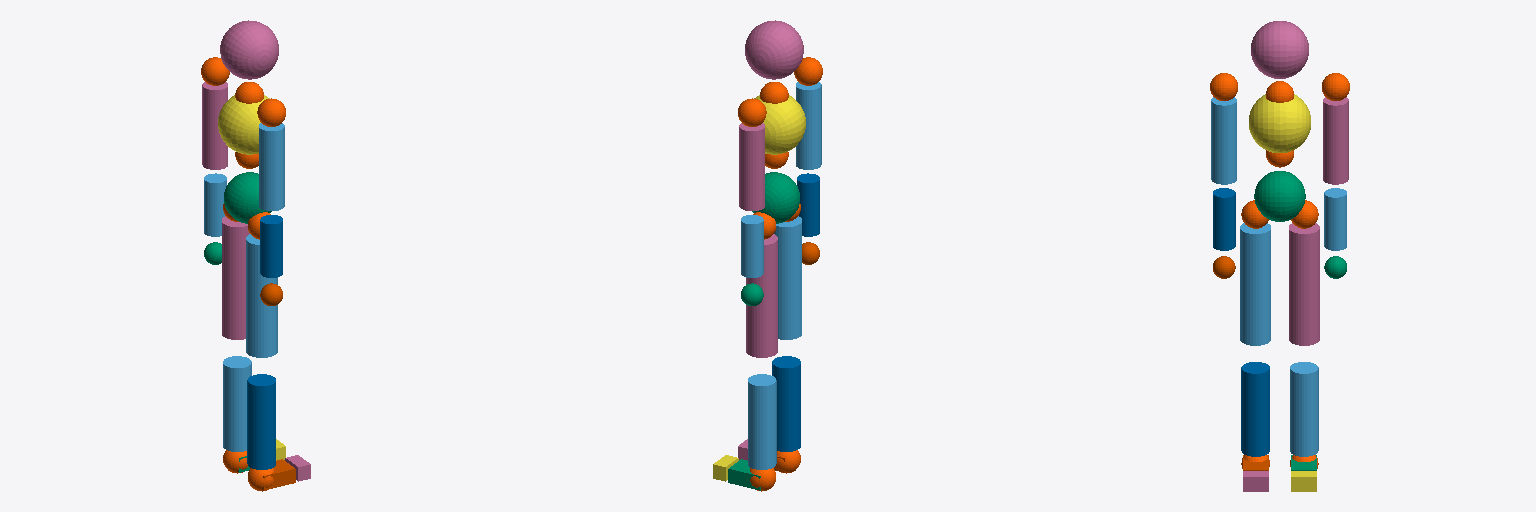
--- What the picture shows (computed from the rendered views, not written in the file) ---
The picture shows the robot from 3 angles, left to right: view 1: azimuth 30°, elevation 25°; view 2: azimuth 150°, elevation 25°; view 3: azimuth 270°, elevation 25°; orthographic projection.
Model W0002 with 35 links and 34 joints (28 revolute, 6 fixed), rooted at base_link, posed every joint at zero.
Links seen in each view (by area): view 1: left_hip, right_hip, neck, right_knee, left_knee, right_shoulder, chest, left_shoulder, root, right_elbow, left_elbow, chest_right_shoulder_link2 (+2 smaller); view 2: right_hip, left_hip, neck, left_knee, right_knee, left_shoulder, chest, right_shoulder, root, left_elbow, right_elbow, chest_left_shoulder_link2 (+2 smaller); view 3: right_hip, left_hip, chest, neck, right_knee, left_knee, right_shoulder, left_shoulder, root, right_elbow, left_elbow, chest_right_shoulder_link2 (+3 smaller).
Link boxes in pixels (box(x1,y1,x2,y2)): left_hip: box(222, 216, 249, 339); right_hip: box(246, 234, 277, 357); neck: box(220, 20, 278, 79); right_knee: box(247, 374, 275, 469); left_knee: box(223, 356, 251, 451); right_shoulder: box(259, 123, 284, 210); chest: box(218, 95, 269, 154); left_shoulder: box(202, 82, 227, 169); root: box(224, 172, 271, 223); right_elbow: box(260, 215, 282, 277); left_elbow: box(204, 173, 226, 236); chest_right_shoulder_link2: box(257, 98, 285, 126); right_hip: box(774, 216, 801, 339); left_hip: box(746, 234, 777, 357); neck: box(745, 20, 803, 79); left_knee: box(748, 374, 776, 469); right_knee: box(772, 356, 800, 451); left_shoulder: box(739, 123, 764, 210); chest: box(754, 95, 805, 154); right_shoulder: box(796, 82, 821, 169); root: box(752, 172, 799, 223); left_elbow: box(741, 215, 763, 277); right_elbow: box(797, 173, 819, 236); chest_left_shoulder_link2: box(738, 98, 766, 126); right_hip: box(1240, 223, 1270, 345); left_hip: box(1289, 223, 1319, 345); chest: box(1249, 94, 1310, 152); neck: box(1251, 21, 1308, 78); right_knee: box(1241, 362, 1269, 456); left_knee: box(1290, 362, 1318, 456); right_shoulder: box(1211, 97, 1236, 184); left_shoulder: box(1323, 97, 1348, 184); root: box(1254, 171, 1305, 221); right_elbow: box(1213, 188, 1235, 250); left_elbow: box(1324, 188, 1346, 250); chest_right_shoulder_link2: box(1210, 73, 1237, 100).
Size in the robot's own frame: 0.28 by 0.49 by 1.75 metres.
Geometry: primitives only (box / cylinder / sphere), no mesh files.

The robot description file, URDF, robot "W0002":
<?xml version="1.0" ?>
            <robot name="W0002">
            <material name="orange">
                <color rgba="1.0 0.4235294117647059 0.0392156862745098 1.0"/>
            </material>
            <link name="base_link">
                </link>
            <link name="base">
                </link>
            <joint name="j_base_base_link_rotation" type="fixed">
                <parent link="base_link"/>
                <child link="base"/>
                <origin rpy="1.5707963267948966 0 0" xyz="0 0 0"/>
            </joint>
            <link name="root">
                <inertial>
                <origin rpy="0 0 0" xyz="0.0 0.07 0.0"/>
                <mass value="6.000000"/>
                <inertia ixx="0.019440000000000002" ixy="0" ixz="0" iyy="0.019440000000000002" iyz="0" izz="0.019440000000000002"/>
                </inertial>
                <collision>
                <origin rpy="0 0 0" xyz="0.000000 0.070000 0.000000"/>
                <geometry>
                    <sphere radius="0.09"/>
                </geometry>
                </collision>
                <visual>
                <origin rpy="0 0 0" xyz="0.000000 0.070000 0.000000"/>
                <geometry>
                    <sphere radius="0.09"/>
                </geometry>
                </visual>
            </link>
            <joint name="j_root" type="fixed">
                <parent link="base"/>
                <child link="root"/>
                <origin rpy="0 0 0" xyz="0 0.000000 0.000000"/>
            </joint>
            <link name="chest">
                <inertial>
                <origin rpy="0 0 0" xyz="0.000000 0.120000 0.000000"/>
                <mass value="14.000000"/>
                <inertia ixx="0.06776000000000001" ixy="0" ixz="0" iyy="0.06776000000000001" iyz="0" izz="0.06776000000000001"/>
                </inertial>
                <collision>
                <origin rpy="0 0 0" xyz="0.000000 0.120000 0.000000"/>
                <geometry>
                    <sphere radius="0.11"/>
                </geometry>
                </collision>
                <visual>
                <origin rpy="0 0 0" xyz="0.000000 0.120000 0.000000"/>
                <geometry>
                    <sphere radius="0.11"/>
                </geometry>
                </visual>
            </link>
            <link name="root_chest_link1">
                <inertial>
                <mass value="1e-02"/>
                <inertia ixx="1e-02" ixy="0" ixz="0" iyy="1e-02" iyz="0" izz="1e-02"/>
                </inertial>
            </link>
            <joint name="j_root_chest_joint1" type="revolute">
                <origin rpy="0 0 0" xyz="0.0 0.236151 0.000000"/>
                <parent link="root"/>
                <child link="root_chest_link1"/>
                <axis xyz="1 0 0"/>
                <limit effort="200" lower="-1.2" upper="1.2" velocity="3"/>
            </joint>
            <link name="root_chest_link2">
                <inertial>
                <mass value="1e-02"/>
                <inertia ixx="1e-02" ixy="0" ixz="0" iyy="1e-02" iyz="0" izz="1e-02"/>
                </inertial>
                <visual>
                <geometry>
                    <sphere radius="0.05"/>
                </geometry>
                <material name="orange"/>
                </visual>
            </link>
            <joint name="j_root_chest_joint2" type="revolute">
                <parent link="root_chest_link1"/>
                <child link="root_chest_link2"/>
                <axis xyz="0 1 0"/>
                <limit effort="200" lower="-1.2" upper="1.2" velocity="3"/>
            </joint>
            <joint name="j_root_chest_joint3" type="revolute">
                <parent link="root_chest_link2"/>
                <child link="chest"/>
                <axis xyz="0 0 1"/>
                <limit effort="200" lower="-1.2" upper="1.2" velocity="3"/>
            </joint>
            <link name="neck">
                <inertial>
                <origin rpy="0 0 0" xyz="0.0 0.175 0.0"/>
                <mass value="2.000000"/>
                <inertia ixx="0.008405" ixy="0" ixz="0" iyy="0.008405" iyz="0" izz="0.008405"/>
                </inertial>
                <collision>
                <origin rpy="0 0 0" xyz="0.0 0.175 0.0"/>
                <geometry>
                    <sphere radius="0.1025"/>
                </geometry>
                </collision>
                <visual>
                <origin rpy="0 0 0" xyz="0.0 0.175 0.0"/>
                <geometry>
                    <sphere radius="0.1025"/>
                </geometry>
                </visual>
            </link>
            <link name="chest_neck_link1">
                <inertial>
                <mass value="1e-02"/>
                <inertia ixx="1e-02" ixy="0" ixz="0" iyy="1e-02" iyz="0" izz="1e-02"/>
                </inertial>
            </link>
            <joint name="j_chest_neck_joint1" type="revolute">
                <origin rpy="0 0 0" xyz="0.000000 0.223894 0.000000"/>
                <parent link="chest"/>
                <child link="chest_neck_link1"/>
                <axis xyz="1 0 0"/>
                <limit effort="50" lower="-1" upper="1" velocity="3"/>
            </joint>
            <link name="chest_neck_link2">
                <inertial>
                <mass value="1e-02"/>
                <inertia ixx="1e-02" ixy="0" ixz="0" iyy="1e-02" iyz="0" izz="1e-02"/>
                </inertial>
                <visual>
                <geometry>
                    <sphere radius="0.05"/>
                </geometry>
                <material name="orange"/>
                </visual>
            </link>
            <joint name="j_chest_neck_joint2" type="revolute">
                <parent link="chest_neck_link1"/>
                <child link="chest_neck_link2"/>
                <axis xyz="0 1 0"/>
                <limit effort="50" lower="-1" upper="1" velocity="3"/>
            </joint>
            <joint name="j_chest_neck_joint3" type="revolute">
                <parent link="chest_neck_link2"/>
                <child link="neck"/>
                <axis xyz="0 0 1"/>
                <limit effort="50" lower="-1" upper="1" velocity="3"/>
            </joint>
            <link name="right_hip">
                <inertial>
                <origin rpy="0 0 0" xyz="0.000000 -0.210000 0.000000"/>
                <mass value="4.500000"/>
                <inertia ixx="0.037153124999999995" ixy="0.0" ixz="0.0" iyy="0.037153124999999995" iyz="0.0" izz="0.00680625"/>
                </inertial>
                <collision>
                <origin rpy="1.5707963267948966 0 0" xyz="0.000000 -0.210000 0.000000"/>
                <geometry>
                    <cylinder length="0.22499999999999998" radius="0.0275"/>
                </geometry>
                </collision>
                <visual>
                <origin rpy="1.5707963267948966 0 0" xyz="0.000000 -0.26550000000000007 0.000000"/>
                <geometry>
                    <cylinder length="0.43100000000000016" radius="0.055"/>
                </geometry>
                </visual>
            </link>
            <link name="root_right_hip_link1">
                <inertial>
                <mass value="1e-02"/>
                <inertia ixx="1e-02" ixy="0" ixz="0" iyy="1e-02" iyz="0" izz="1e-02"/>
                </inertial>
            </link>
            <joint name="j_root_right_hip_joint1" type="revolute">
                <origin rpy="0 0 0" xyz="0.000000 0.000000 0.084887"/>
                <parent link="root"/>
                <child link="root_right_hip_link1"/>
                <axis xyz="1 0 0"/>
                <limit effort="200" lower="-1.5" upper="1.5" velocity="3"/>
            </joint>
            <link name="root_right_hip_link2">
                <inertial>
                <mass value="1e-02"/>
                <inertia ixx="1e-02" ixy="0" ixz="0" iyy="1e-02" iyz="0" izz="1e-02"/>
                </inertial>
                <visual>
                <geometry>
                    <sphere radius="0.05"/>
                </geometry>
                <material name="orange"/>
                </visual>
            </link>
            <joint name="j_root_right_hip_joint2" type="revolute">
                <parent link="root_right_hip_link1"/>
                <child link="root_right_hip_link2"/>
                <axis xyz="0 1 0"/>
                <limit effort="200" lower="-1.5" upper="1.5" velocity="3"/>
            </joint>
            <joint name="j_root_right_hip_joint3" type="revolute">
                <parent link="root_right_hip_link2"/>
                <child link="right_hip"/>
                <axis xyz="0 0 1"/>
                <limit effort="200" lower="-1.5" upper="1.5" velocity="3"/>
            </joint>
            <link name="right_knee">
                <inertial>
                <origin rpy="0 0 0" xyz="0.000000 -0.200000 0.000000"/>
                <mass value="3.000000"/>
                <inertia ixx="0.1" ixy="0" ixz="0" iyy="0.1" iyz="0" izz="0.1"/>
                </inertial>
                <collision>
                <origin rpy="1.5707963267948966 0 0" xyz="0.000000 -0.200000 0.000000"/>
                <geometry>
                    <cylinder length="0.23249999999999998" radius="0.025"/>
                </geometry>
                </collision>
                <visual>
                <origin rpy="1.5707963267948966 0 0" xyz="0.000000 -0.2 0.000000"/>
                <geometry>
                    <cylinder length="0.32" radius="0.05"/>
                </geometry>
                </visual>
            </link>
            <joint name="j_right_knee" type="revolute">
                <parent link="right_hip"/>
                <child link="right_knee"/>
                <limit effort="150.0" lower="-3.14" upper="0." velocity="0.5"/>
                <origin rpy="0 0 0" xyz="0.000000 -0.5510000000000002 0.000000"/>
                <axis xyz="0.000000 0.000000 1.000000"/>
            </joint>
            <link name="right_ankle">
                <inertial>
                <origin rpy="0 0 0" xyz="0.045 -0.00225 0.000000"/>
                <mass value="1.000000"/>
                <inertia ixx="0.0009270833333333333" ixy="0.0" ixz="0.0" iyy="0.0028628333333333327" iyz="0.0" izz="0.003285749999999999"/>
                </inertial>
                <collision>
                <origin rpy="0 0 0" xyz="0.045 -0.00225 0.000000"/>
                <geometry>
                    <box size="0.127 0.055 0.09"/>
                </geometry>
                </collision>
                <visual>
                <origin rpy="0 0 0" xyz="0.045 -0.00225 0.000000"/>
                <geometry>
                    <box size="0.127 0.055 0.09"/>
                </geometry>
                </visual>
            </link>
            <joint name="j_right_toe" type="fixed">
                <parent link="right_ankle"/>
                <child link="right_toe"/>
                <limit effort="150.0" lower="-3.14" upper="0." velocity="0.5"/>
                <origin rpy="0 0 0" xyz="0.1 0.0 0.0"/>
                <axis xyz="0.000000 0.000000 1.000000"/>
            </joint>
            <link name="right_toe">
                <inertial>
                <origin rpy="0 0 0" xyz="0.045 0.0 0.0"/>
                <mass value="0.3"/>
                <inertia ixx="0.0009270833333333333" ixy="0.0" ixz="0.0" iyy="0.0028628333333333327" iyz="0.0" izz="0.003285749999999999"/>
                </inertial>
                <collision>
                <origin rpy="0 0 0" xyz="0.045 0.0 0.0"/>
                <geometry>
                    <box size="0.05 0.055 0.09"/>
                </geometry>
                </collision>
                <visual>
                <origin rpy="0 0 0" xyz="0.045 0.0 0.0"/>
                <geometry>
                    <box size="0.05 0.055 0.09"/>
                </geometry>
                </visual>
            </link>
            <link name="right_knee_right_ankle_link1">
                <inertial>
                <mass value="1e-02"/>
                <inertia ixx="1e-02" ixy="0" ixz="0" iyy="1e-02" iyz="0" izz="1e-02"/>
                </inertial>
            </link>
            <joint name="j_right_knee_right_ankle_joint1" type="revolute">
                <origin rpy="0 0 0" xyz="0.000000 -0.41000000000000003 0.000000"/>
                <parent link="right_knee"/>
                <child link="right_knee_right_ankle_link1"/>
                <axis xyz="1 0 0"/>
                <limit effort="90" lower="-1.2" upper="1.2" velocity="3"/>
            </joint>
            <link name="right_knee_right_ankle_link2">
                <inertial>
                <mass value="1e-02"/>
                <inertia ixx="1e-02" ixy="0" ixz="0" iyy="1e-02" iyz="0" izz="1e-02"/>
                </inertial>
                <visual>
                <geometry>
                    <sphere radius="0.05"/>
                </geometry>
                <material name="orange"/>
                </visual>
            </link>
            <joint name="j_right_knee_right_ankle_joint2" type="revolute">
                <parent link="right_knee_right_ankle_link1"/>
                <child link="right_knee_right_ankle_link2"/>
                <axis xyz="0 1 0"/>
                <limit effort="90" lower="-1.2" upper="1.2" velocity="3"/>
            </joint>
            <joint name="j_right_knee_right_ankle_joint3" type="revolute">
                <parent link="right_knee_right_ankle_link2"/>
                <child link="right_ankle"/>
                <axis xyz="0 0 1"/>
                <limit effort="90" lower="-1.2" upper="1.2" velocity="3"/>
            </joint>
            <link name="right_shoulder">
                <inertial>
                <origin rpy="0 0 0" xyz="0.000000 -0.140000 0.000000"/>
                <mass value="1.500000"/>
                <inertia ixx="0.004809374999999999" ixy="0.0" ixz="0.0" iyy="0.004809374999999999" iyz="0.0" izz="0.0015187500000000001"/>
                </inertial>
                <collision>
                <origin rpy="1.5707963267948966 0 0" xyz="0.000000 -0.140000 0.000000"/>
                <geometry>
                    <cylinder length="0.135" radius="0.0225"/>
                </geometry>
                </collision>
                <visual>
                <origin rpy="1.5707963267948966 0 0" xyz="0.000000 -0.2025 0.000000"/>
                <geometry>
                    <cylinder length="0.305" radius="0.045"/>
                </geometry>
                </visual>
            </link>
            <link name="chest_right_shoulder_link1">
                <inertial>
                <mass value="1e-02"/>
                <inertia ixx="1e-02" ixy="0" ixz="0" iyy="1e-02" iyz="0" izz="1e-02"/>
                </inertial>
            </link>
            <joint name="j_chest_right_shoulder_joint1" type="revolute">
                <origin rpy="0 0 0" xyz="-0.02406 0.24350 0.195"/>
                <parent link="chest"/>
                <child link="chest_right_shoulder_link1"/>
                <axis xyz="1 0 0"/>
                <limit effort="100" lower="-3.14" upper="3.14" velocity="3"/>
            </joint>
            <link name="chest_right_shoulder_link2">
                <inertial>
                <mass value="1e-02"/>
                <inertia ixx="1e-02" ixy="0" ixz="0" iyy="1e-02" iyz="0" izz="1e-02"/>
                </inertial>
                <visual>
                <geometry>
                    <sphere radius="0.05"/>
                </geometry>
                <material name="orange"/>
                </visual>
            </link>
            <joint name="j_chest_right_shoulder_joint2" type="revolute">
                <parent link="chest_right_shoulder_link1"/>
                <child link="chest_right_shoulder_link2"/>
                <axis xyz="0 1 0"/>
                <limit effort="100" lower="-3.14" upper="3.14" velocity="3"/>
            </joint>
            <joint name="j_chest_right_shoulder_joint3" type="revolute">
                <parent link="chest_right_shoulder_link2"/>
                <child link="right_shoulder"/>
                <axis xyz="0 0 1"/>
                <limit effort="100" lower="-3.14" upper="3.14" velocity="3"/>
            </joint>
            <link name="right_elbow">
                <inertial>
                <origin rpy="0 0 0" xyz="0.000000 -0.120000 0.000000"/>
                <mass value="1.000000"/>
                <inertia ixx="0.0019187499999999999" ixy="0.0" ixz="0.0" iyy="0.0019187499999999999" iyz="0.0" izz="0.0008"/>
                </inertial>
                <collision>
                <origin rpy="1.5707963267948966 0 0" xyz="0.0 -0.12 0.0"/>
                <geometry>
                    <cylinder length="0.10125" radius="0.02"/>
                </geometry>
                </collision>
                <visual>
                <origin rpy="1.5707963267948966 0 0" xyz="0.0 -0.12 0.0"/>
                <geometry>
                    <cylinder length="0.20500000000000002" radius="0.04"/>
                </geometry>
                </visual>
            </link>
            <joint name="j_right_elbow" type="revolute">
                <parent link="right_shoulder"/>
                <child link="right_elbow"/>
                <limit effort="60.0" lower="0" upper="3.14" velocity="0.5"/>
                <origin rpy="0 0 0" xyz="0.000000 -0.39 0.000000"/>
                <axis xyz="0.000000 0.000000 1.000000"/>
            </joint>
            <link name="right_wrist">
                <inertial>
                <origin rpy="0 0 0" xyz="0.000000 0.000000 0.000000"/>
                <mass value="0.500000"/>
                <inertia ixx="0.00032" ixy="0" ixz="0" iyy="0.00032" iyz="0" izz="0.00032"/>
                </inertial>
                <collision>
                <origin rpy="0 0 0" xyz="0.000000 0.000000 0.000000"/>
                <geometry>
                    <sphere radius="0.04"/>
                </geometry>
                </collision>
                <visual>
                <origin rpy="0 0 0" xyz="0.000000 0.000000 0.000000"/>
                <geometry>
                    <sphere radius="0.04"/>
                </geometry>
                </visual>
            </link>
            <joint name="j_right_wrist" type="fixed">
                <parent link="right_elbow"/>
                <child link="right_wrist"/>
                <origin rpy="0 0 0" xyz="0.000000 -0.30500000000000005 0.000000"/>
            </joint>
            <link name="left_hip">
                <inertial>
                <origin rpy="0 0 0" xyz="0.000000 -0.210000 0.000000"/>
                <mass value="4.500000"/>
                <inertia ixx="0.037153124999999995" ixy="0.0" ixz="0.0" iyy="0.037153124999999995" iyz="0.0" izz="0.00680625"/>
                </inertial>
                <collision>
                <origin rpy="1.5707963267948966 0 0" xyz="0.000000 -0.210000 0.000000"/>
                <geometry>
                    <cylinder length="0.22499999999999998" radius="0.0275"/>
                </geometry>
                </collision>
                <visual>
                <origin rpy="1.5707963267948966 0 0" xyz="0.000000 -0.26550000000000007 0.000000"/>
                <geometry>
                    <cylinder length="0.43100000000000016" radius="0.055"/>
                </geometry>
                </visual>
            </link>
            <link name="root_left_hip_link1">
                <inertial>
                <mass value="1e-02"/>
                <inertia ixx="1e-02" ixy="0" ixz="0" iyy="1e-02" iyz="0" izz="1e-02"/>
                </inertial>
            </link>
            <joint name="j_root_left_hip_joint1" type="revolute">
                <origin rpy="0 0 0" xyz="0.000000 0.000000 -0.084887"/>
                <parent link="root"/>
                <child link="root_left_hip_link1"/>
                <axis xyz="1 0 0"/>
                <limit effort="200" lower="-1.5" upper="1.5" velocity="3"/>
            </joint>
            <link name="root_left_hip_link2">
                <inertial>
                <mass value="1e-02"/>
                <inertia ixx="1e-02" ixy="0" ixz="0" iyy="1e-02" iyz="0" izz="1e-02"/>
                </inertial>
                <visual>
                <geometry>
                    <sphere radius="0.05"/>
                </geometry>
                <material name="orange"/>
                </visual>
            </link>
            <joint name="j_root_left_hip_joint2" type="revolute">
                <parent link="root_left_hip_link1"/>
                <child link="root_left_hip_link2"/>
                <axis xyz="0 1 0"/>
                <limit effort="200" lower="-1.5" upper="1.5" velocity="3"/>
            </joint>
            <joint name="j_root_left_hip_joint3" type="revolute">
                <parent link="root_left_hip_link2"/>
                <child link="left_hip"/>
                <axis xyz="0 0 1"/>
                <limit effort="200" lower="-1.5" upper="1.5" velocity="3"/>
            </joint>
            <link name="left_knee">
                <inertial>
                <origin rpy="0 0 0" xyz="0.000000 -0.200000 0.000000"/>
                <mass value="3.000000"/>
                <inertia ixx="0.025900000000000003" ixy="0.0" ixz="0.0" iyy="0.025900000000000003" iyz="0.0" izz="0.0037500000000000007"/>
                </inertial>
                <collision>
                <origin rpy="1.5707963267948966 0 0" xyz="0.000000 -0.200000 0.000000"/>
                <geometry>
                    <cylinder length="0.23249999999999998" radius="0.025"/>
                </geometry>
                </collision>
                <visual>
                <origin rpy="1.5707963267948966 0 0" xyz="0.000000 -0.2 0.000000"/>
                <geometry>
                    <cylinder length="0.32" radius="0.05"/>
                </geometry>
                </visual>
            </link>
            <joint name="j_left_knee" type="revolute">
                <parent link="left_hip"/>
                <child link="left_knee"/>
                <limit effort="150.0" lower="-3.14" upper="0." velocity="0.5"/>
                <origin rpy="0 0 0" xyz="0.000000 -0.5510000000000002 0.000000"/>
                <axis xyz="0.000000 0.000000 1.000000"/>
            </joint>
            <link name="left_ankle">
                <inertial>
                <origin rpy="0 0 0" xyz="0.045 -0.00225 0.0"/>
                <mass value="0.7"/>
                <inertia ixx="0.0009270833333333333" ixy="0.0" ixz="0.0" iyy="0.0028628333333333327" iyz="0.0" izz="0.003285749999999999"/>
                </inertial>
                <collision>
                <origin rpy="0 0 0" xyz="0.045 -0.00225 0.0"/>
                <geometry>
                    <box size="0.127 0.055 0.09"/>
                </geometry>
                </collision>
                <visual>
                <origin rpy="0 0 0" xyz="0.045 -0.00225 0.0"/>
                <geometry>
                    <box size="0.127 0.055 0.09"/>
                </geometry>
                </visual>
            </link>
            <joint name="j_left_toe" type="fixed">
                <parent link="left_ankle"/>
                <child link="left_toe"/>
                <limit effort="150.0" lower="-3.14" upper="0." velocity="0.5"/>
                <origin rpy="0 0 0" xyz="0.1 0.0 0.0"/>
                <axis xyz="0.000000 0.000000 1.000000"/>
            </joint>
            <link name="left_toe">
                <inertial>
                <origin rpy="0 0 0" xyz="0.045 0.0 0.0"/>
                <mass value="0.3"/>
                <inertia ixx="0.0009270833333333333" ixy="0.0" ixz="0.0" iyy="0.0028628333333333327" iyz="0.0" izz="0.003285749999999999"/>
                </inertial>
                <collision>
                <origin rpy="0 0 0" xyz="0.045 0.0 0.0"/>
                <geometry>
                    <box size="0.05 0.055 0.09"/>
                </geometry>
                </collision>
                <visual>
                <origin rpy="0 0 0" xyz="0.045 0.0 0.0"/>
                <geometry>
                    <box size="0.05 0.055 0.09"/>
                </geometry>
                </visual>
            </link>
            <link name="left_knee_left_ankle_link1">
                <inertial>
                <mass value="1e-02"/>
                <inertia ixx="1e-02" ixy="0" ixz="0" iyy="1e-02" iyz="0" izz="1e-02"/>
                </inertial>
            </link>
            <joint name="j_left_knee_left_ankle_joint1" type="revolute">
                <origin rpy="0 0 0" xyz="0.000000 -0.41000000000000003 0.000000"/>
                <parent link="left_knee"/>
                <child link="left_knee_left_ankle_link1"/>
                <axis xyz="1 0 0"/>
                <limit effort="90" lower="-1.2" upper="1.2" velocity="3"/>
            </joint>
            <link name="left_knee_left_ankle_link2">
                <inertial>
                <mass value="1e-02"/>
                <inertia ixx="1e-02" ixy="0" ixz="0" iyy="1e-02" iyz="0" izz="1e-02"/>
                </inertial>
                <visual>
                <geometry>
                    <sphere radius="0.05"/>
                </geometry>
                <material name="orange"/>
                </visual>
            </link>
            <joint name="j_left_knee_left_ankle_joint2" type="revolute">
                <parent link="left_knee_left_ankle_link1"/>
                <child link="left_knee_left_ankle_link2"/>
                <axis xyz="0 1 0"/>
                <limit effort="90" lower="-1.2" upper="1.2" velocity="3"/>
            </joint>
            <joint name="j_left_knee_left_ankle_joint3" type="revolute">
                <parent link="left_knee_left_ankle_link2"/>
                <child link="left_ankle"/>
                <axis xyz="0 0 1"/>
                <limit effort="90" lower="-1.2" upper="1.2" velocity="3"/>
            </joint>
            <link name="left_shoulder">
                <inertial>
                <origin rpy="0 0 0" xyz="0.000000 -0.140000 0.000000"/>
                <mass value="1.500000"/>
                <inertia ixx="0.004809374999999999" ixy="0.0" ixz="0.0" iyy="0.004809374999999999" iyz="0.0" izz="0.0015187500000000001"/>
                </inertial>
                <collision>
                <origin rpy="1.5707963267948966 0 0" xyz="0.000000 -0.140000 0.000000"/>
                <geometry>
                    <cylinder length="0.135" radius="0.0225"/>
                </geometry>
                </collision>
                <visual>
                <origin rpy="1.5707963267948966 0 0" xyz="0.000000 -0.2025 0.000000"/>
                <geometry>
                    <cylinder length="0.305" radius="0.045"/>
                </geometry>
                </visual>
            </link>
            <link name="chest_left_shoulder_link1">
                <inertial>
                <mass value="1e-02"/>
                <inertia ixx="1e-02" ixy="0" ixz="0" iyy="1e-02" iyz="0" izz="1e-02"/>
                </inertial>
            </link>
            <joint name="j_chest_left_shoulder_joint1" type="revolute">
                <origin rpy="0 0 0" xyz="-0.02405 0.24350 -0.195"/>
                <parent link="chest"/>
                <child link="chest_left_shoulder_link1"/>
                <axis xyz="1 0 0"/>
                <limit effort="100" lower="-3.14" upper="3.14" velocity="3"/>
            </joint>
            <link name="chest_left_shoulder_link2">
                <inertial>
                <mass value="1e-02"/>
                <inertia ixx="1e-02" ixy="0" ixz="0" iyy="1e-02" iyz="0" izz="1e-02"/>
                </inertial>
                <visual>
                <geometry>
                    <sphere radius="0.05"/>
                </geometry>
                <material name="orange"/>
                </visual>
            </link>
            <joint name="j_chest_left_shoulder_joint2" type="revolute">
                <parent link="chest_left_shoulder_link1"/>
                <child link="chest_left_shoulder_link2"/>
                <axis xyz="0 1 0"/>
                <limit effort="100" lower="-3.14" upper="3.14" velocity="3"/>
            </joint>
            <joint name="j_chest_left_shoulder_joint3" type="revolute">
                <parent link="chest_left_shoulder_link2"/>
                <child link="left_shoulder"/>
                <axis xyz="0 0 1"/>
                <limit effort="100" lower="-3.14" upper="3.14" velocity="3"/>
            </joint>
            <link name="left_elbow">
                <inertial>
                <origin rpy="0 0 0" xyz="0.000000 -0.12 0.000000"/>
                <mass value="1.000000"/>
                <inertia ixx="0.0019187499999999999" ixy="0.0" ixz="0.0" iyy="0.0019187499999999999" iyz="0.0" izz="0.0008"/>
                </inertial>
                <collision>
                <origin rpy="1.5707963267948966 0 0" xyz="0.000000 -0.12 0.000000"/>
                <geometry>
                    <cylinder length="0.10125" radius="0.02"/>
                </geometry>
                </collision>
                <visual>
                <origin rpy="1.5707963267948966 0 0" xyz="0.000000 -0.12 0.000000"/>
                <geometry>
                    <cylinder length="0.20500000000000002" radius="0.04"/>
                </geometry>
                </visual>
            </link>
            <joint name="j_left_elbow" type="revolute">
                <parent link="left_shoulder"/>
                <child link="left_elbow"/>
                <limit effort="60.0" lower="0" upper="3.14" velocity="0.5"/>
                <origin rpy="0 0 0" xyz="0.000000 -0.39 0.000000"/>
                <axis xyz="0.000000 0.000000 1.000000"/>
            </joint>
            <link name="left_wrist">
                <inertial>
                <origin rpy="0 0 0" xyz="0.000000 0.000000 0.000000"/>
                <mass value="0.500000"/>
                <inertia ixx="0.00032" ixy="0" ixz="0" iyy="0.00032" iyz="0" izz="0.00032"/>
                </inertial>
                <collision>
                <origin rpy="0 0 0" xyz="0.000000 0.000000 0.000000"/>
                <geometry>
                    <sphere radius="0.04"/>
                </geometry>
                </collision>
                <visual>
                <origin rpy="0 0 0" xyz="0.000000 0.000000 0.000000"/>
                <geometry>
                    <sphere radius="0.04"/>
                </geometry>
                </visual>
            </link>
            <joint name="j_left_wrist_joint" type="fixed">
                <parent link="left_elbow"/>
                <child link="left_wrist"/>
                <origin rpy="0 0 0" xyz="0.000000 -0.30500000000000005 0.000000"/>
            </joint>
            </robot>
            
